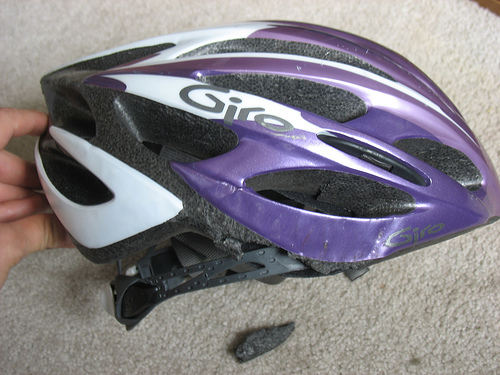helmet: (50, 26, 468, 264)
